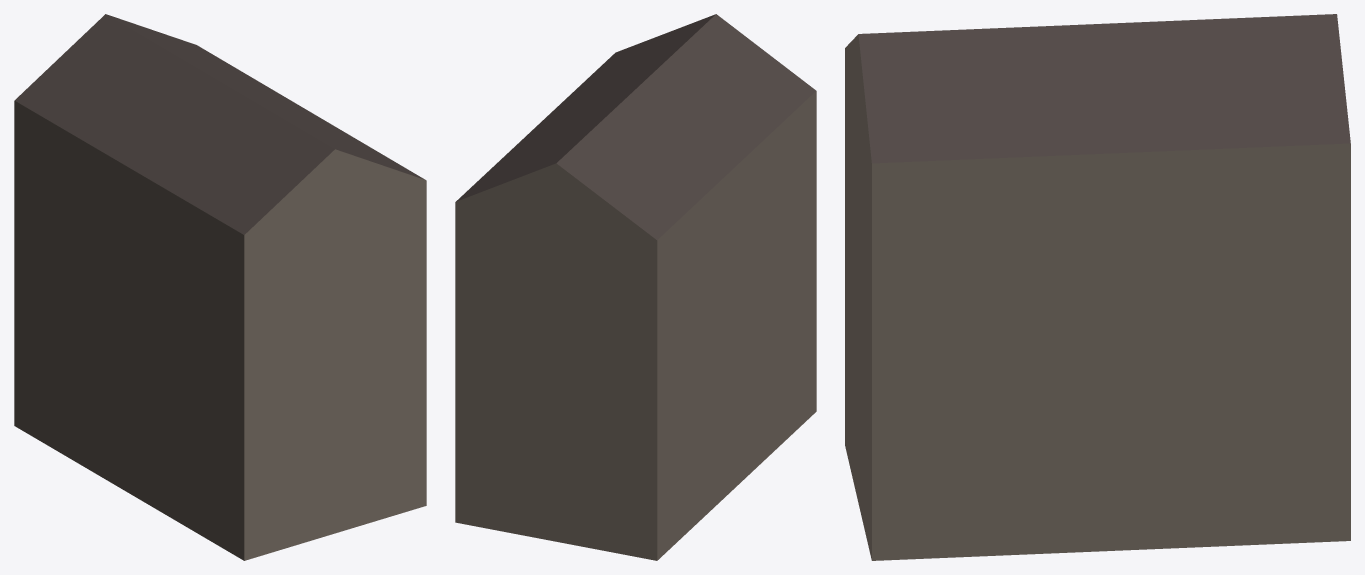
3 renders of one model, left to right at view 1: azimuth 30°, elevation 25°; view 2: azimuth 150°, elevation 25°; view 3: azimuth 270°, elevation 25°, orthographic. The views are drawn at different scales.
Visible parts, largest first — view 1: HP-w776801004; view 2: HP-w776801004; view 3: HP-w776801004.
Boxes of the visible parts, x1=… form: HP-w776801004: x1=14, y1=14, x2=426, y2=560; HP-w776801004: x1=455, y1=14, x2=816, y2=560; HP-w776801004: x1=845, y1=14, x2=1350, y2=560.
Size of the model in its own units: 4.38 by 7.08 by 6.92.
